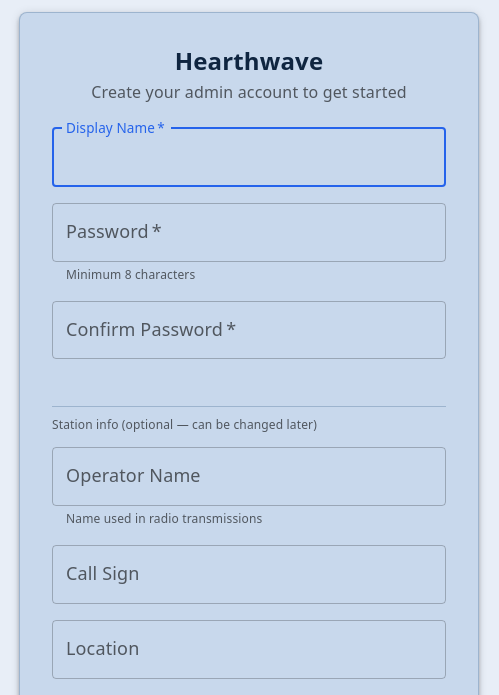
Test: SetupScreen › form submission › shows loading state during submission
Type "Admin" into the field labelled "Display Name *" at (249, 157), box [52,128,446,187]
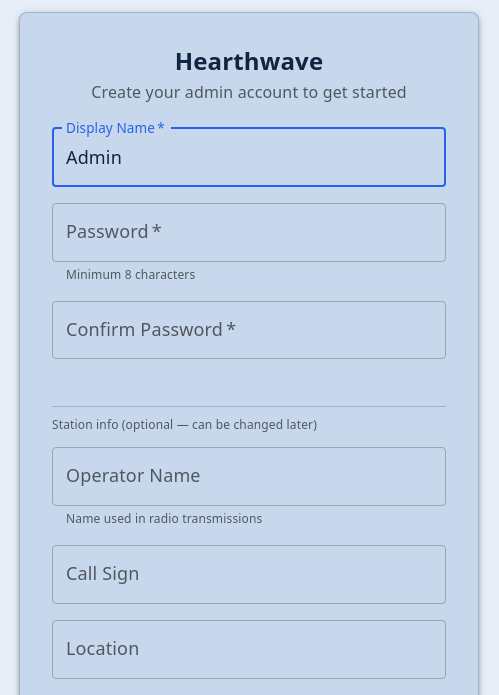
Type "password123" into the password field labelled "Password *" at (249, 232), box [52,203,446,262]
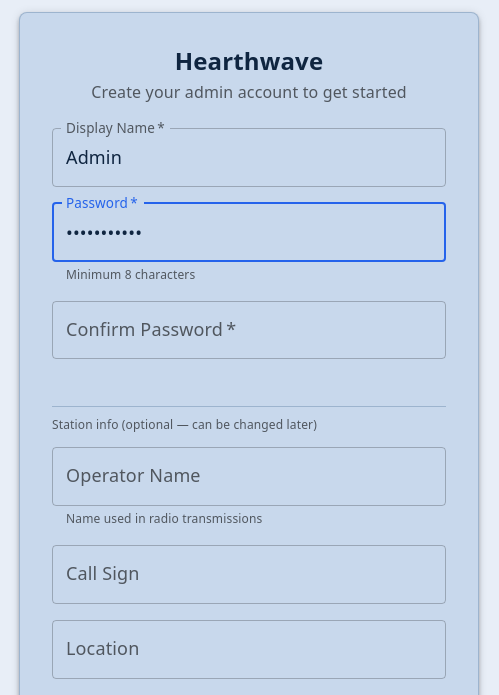
Type "password123" into the password field labelled "Confirm Password *" at (249, 330), box [52,300,446,359]
(page scrolled)
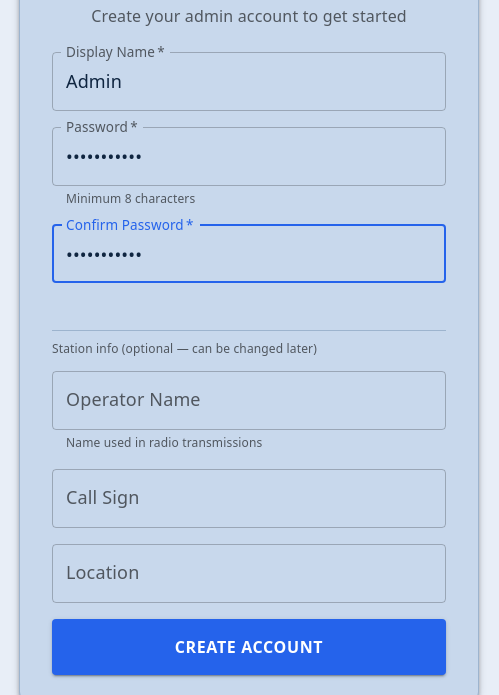
Click the button "Create Account" at (249, 647), box [52,619,446,675]
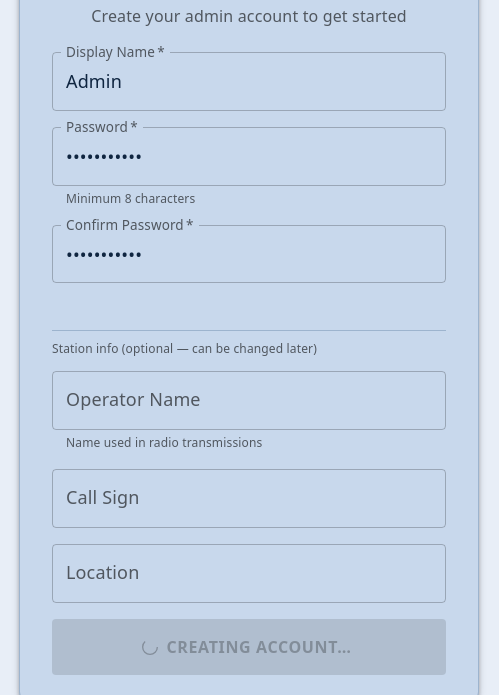
Expected: the button "Creating account…" is shown, [52,619,446,675]
